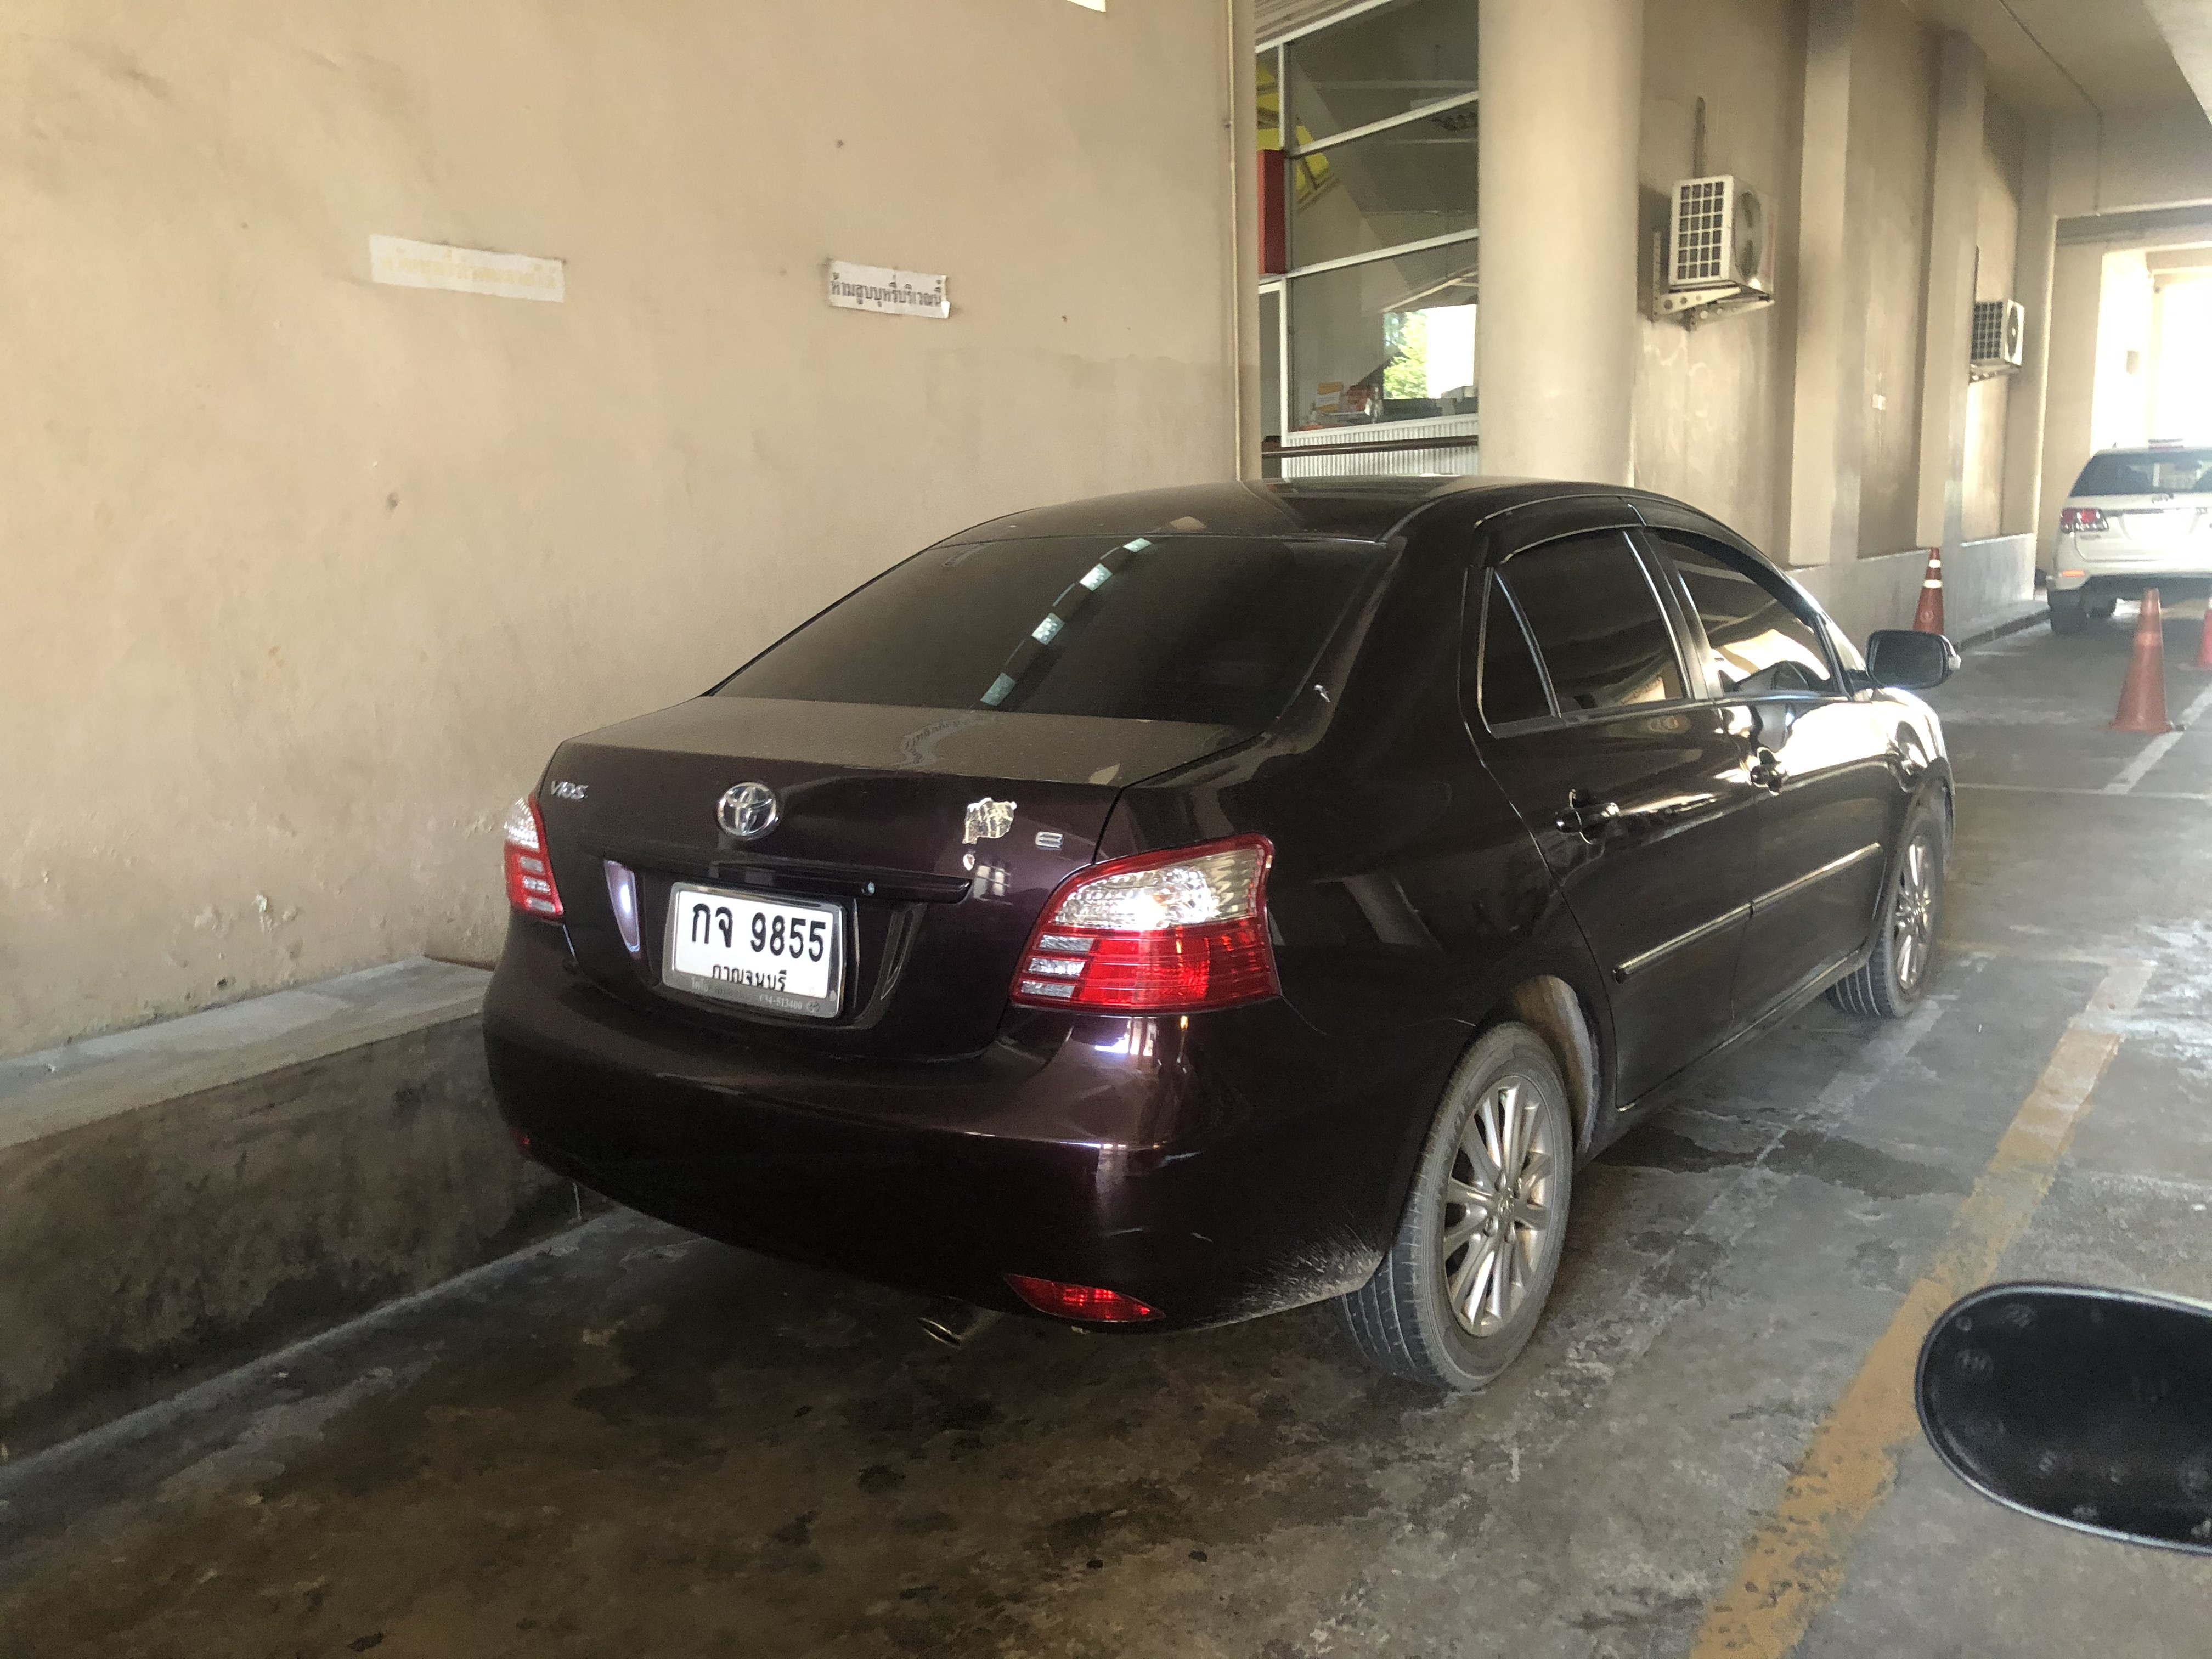in: (669, 887, 831, 1002)
out: (660, 877, 843, 1025)
